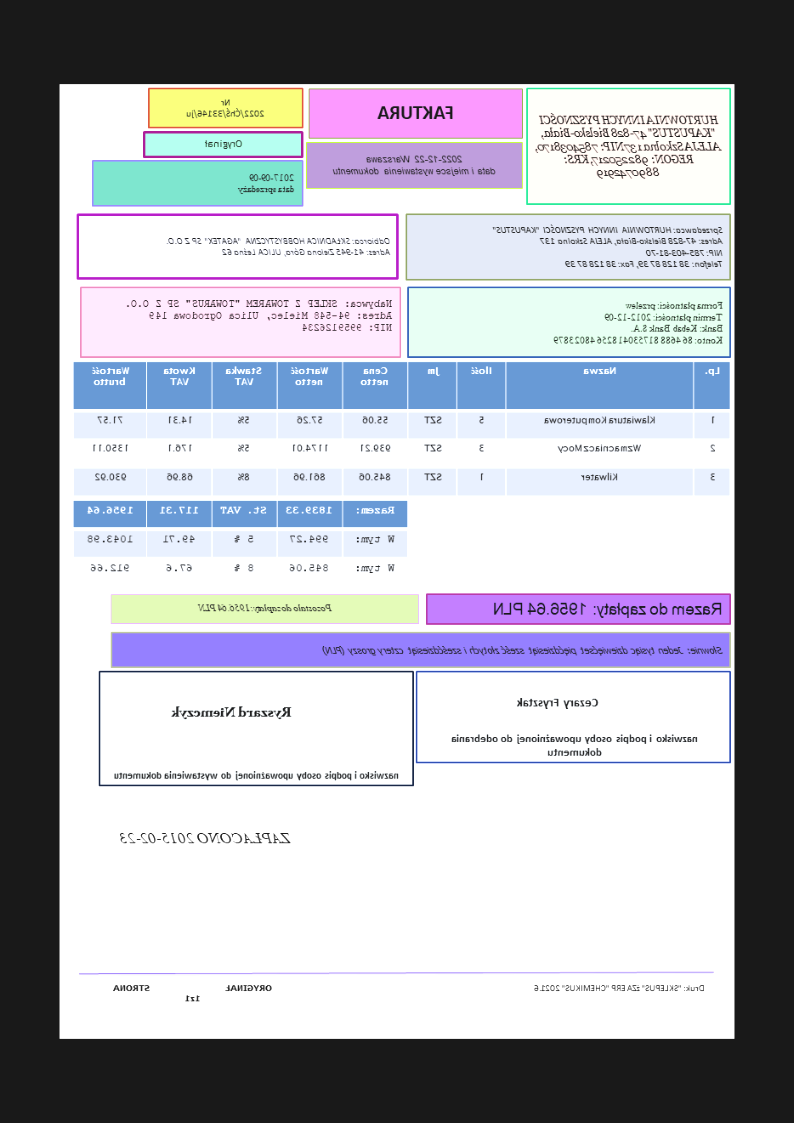Table: (72, 360, 732, 497), (71, 500, 409, 587)
TextBox: (532, 112, 723, 181), (490, 224, 725, 271), (123, 297, 394, 333), (551, 298, 724, 346), (449, 732, 701, 757), (165, 233, 393, 258), (320, 644, 724, 658), (492, 599, 724, 620), (112, 768, 401, 783), (331, 153, 496, 178), (111, 982, 275, 1005), (117, 830, 293, 846), (532, 983, 706, 995), (170, 703, 292, 720), (184, 97, 266, 121), (196, 601, 334, 614), (376, 103, 456, 122), (237, 171, 297, 196), (515, 695, 599, 710), (203, 137, 244, 151)
